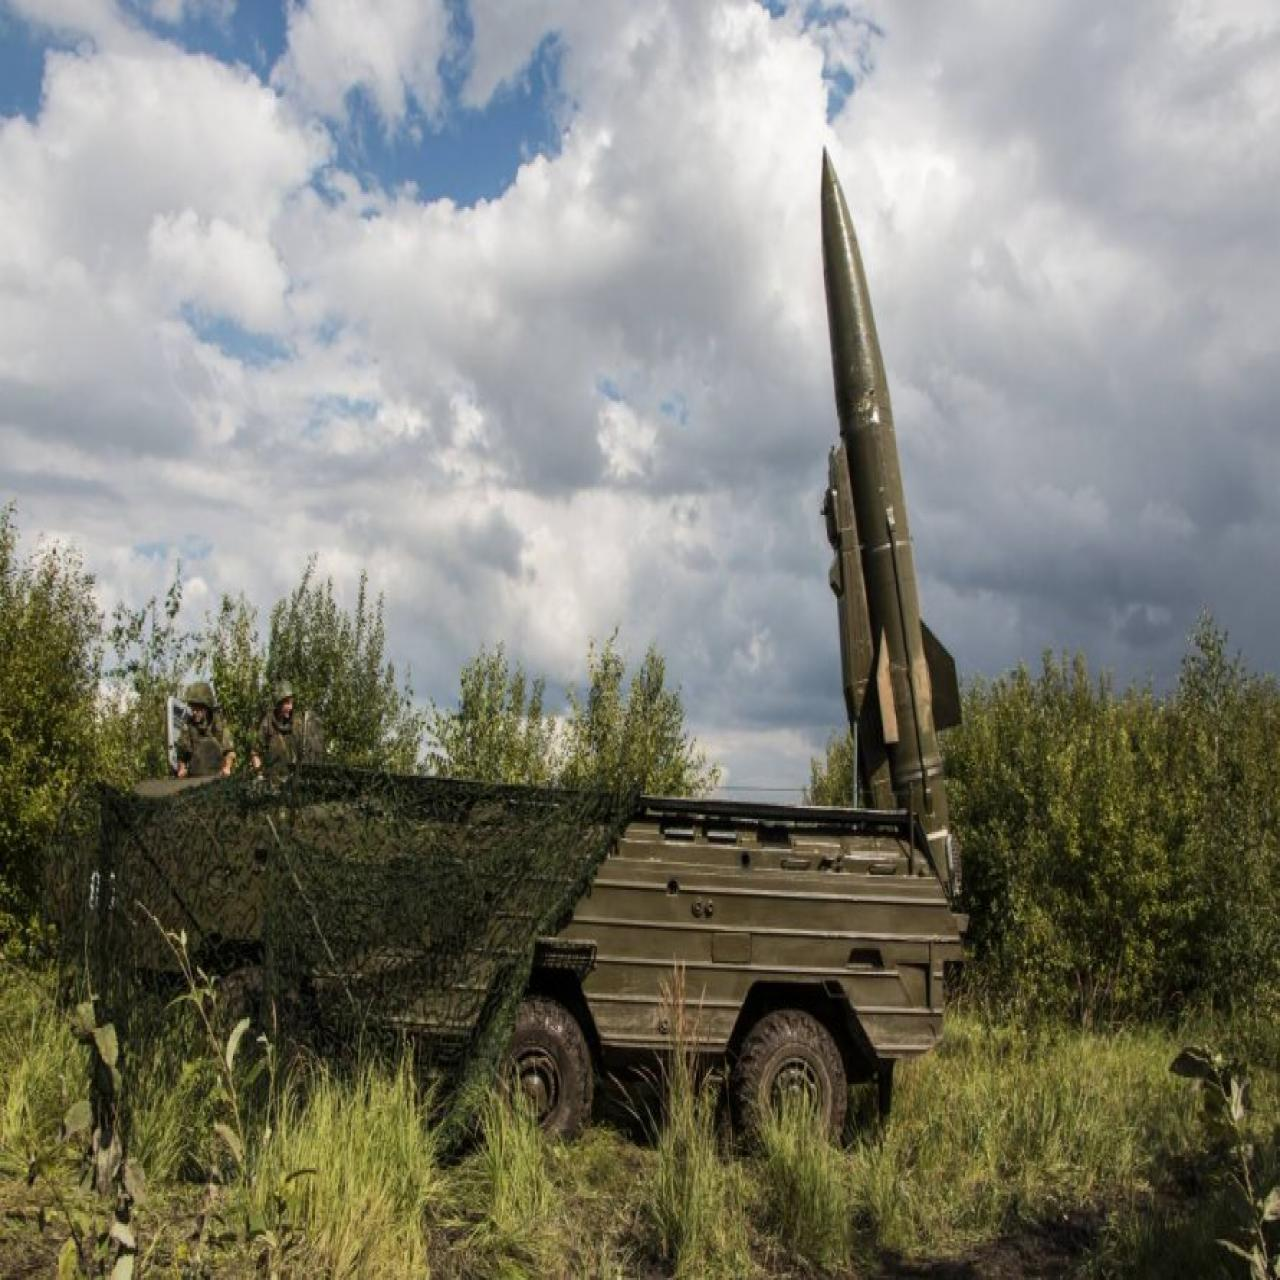MIL_Veh: (105, 142, 968, 1176)
